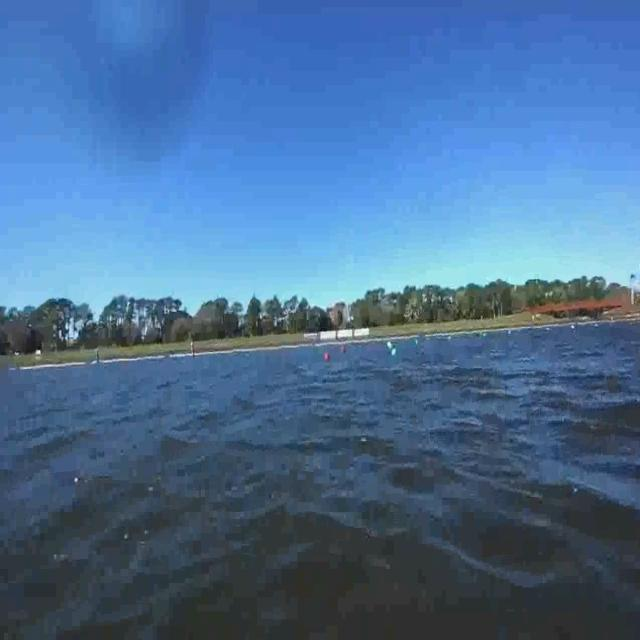red-buoy: (324, 353, 330, 360)
